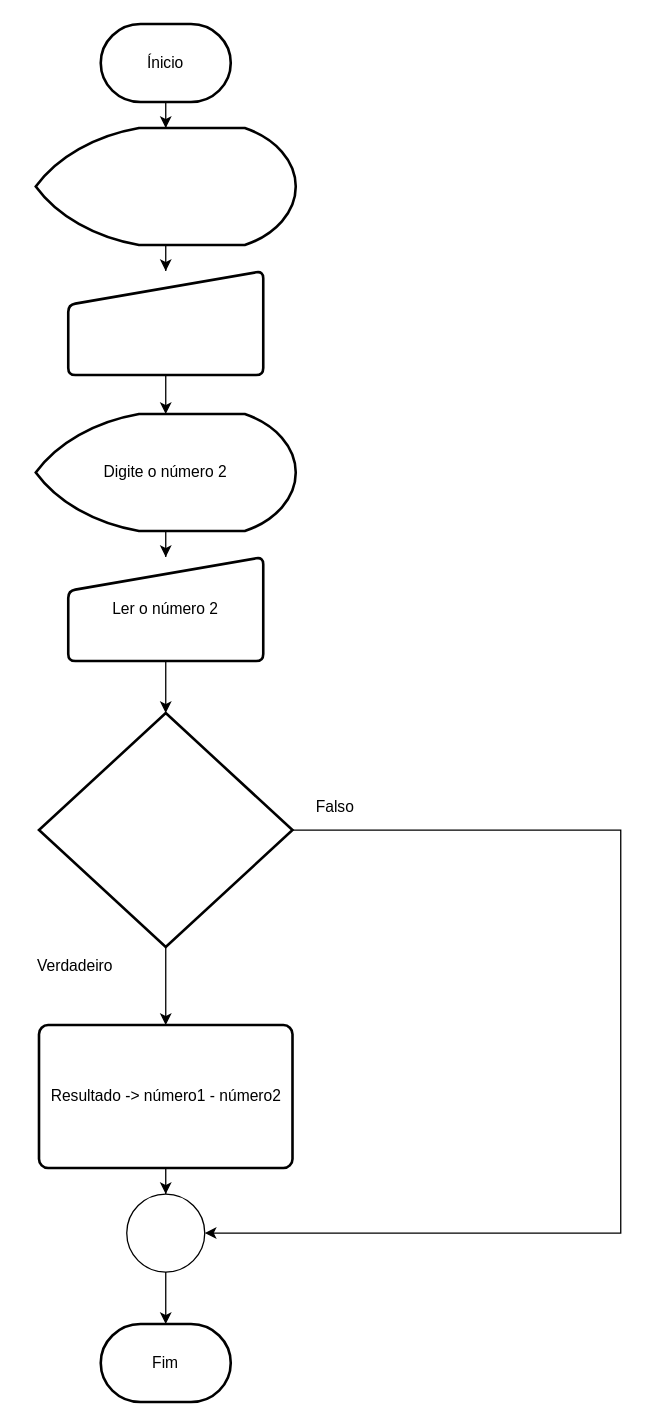
Some shapes in this 654 by 1425 pixel diagram are drawn without their labels. The centre of each missing label's shape, as x and y in pixels:
Digite o número 1: (165,186)
Ler o número 1: (165,322)
Mostrar a diferença entre eles: (165,829)
